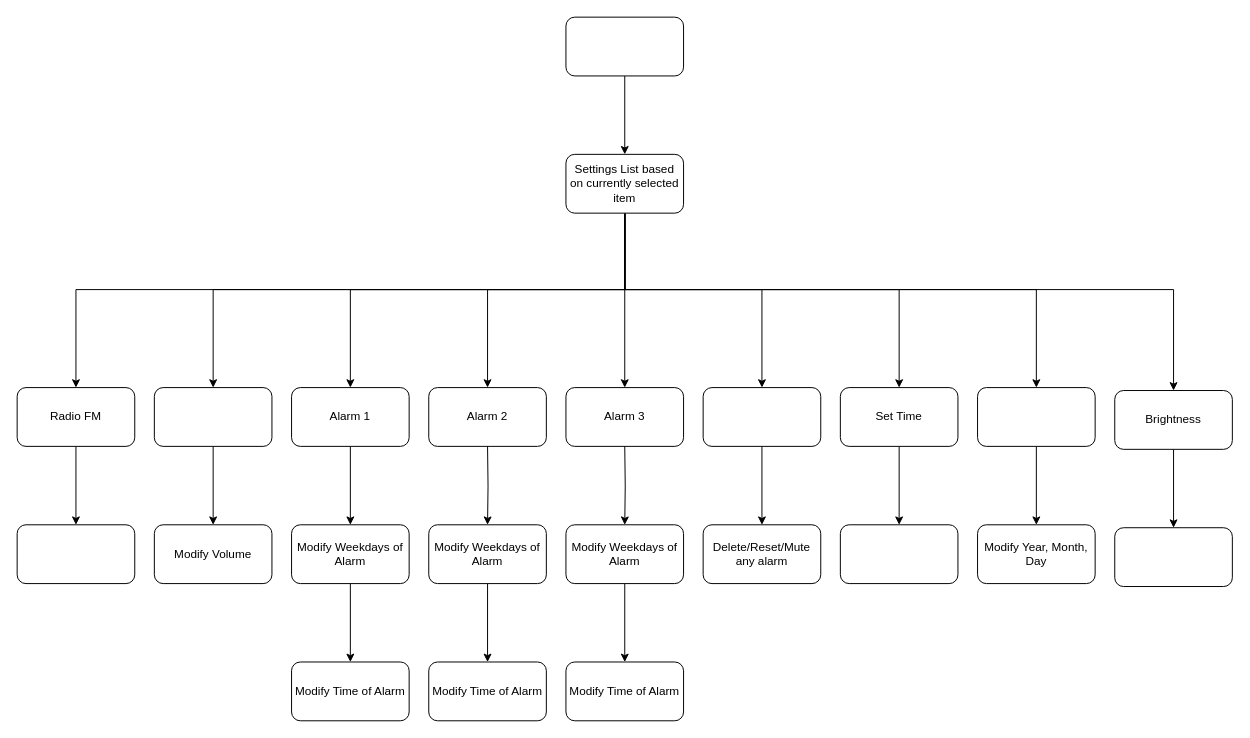
The diagram is 1250 pixels wide and 738 high, and some of its shapes have lost their labels. The box of each missing label's shape, as (x1, y1, x2, y2) in pixels:
Default Clock: (565, 16, 684, 76)
Delete Alarms: (702, 387, 821, 446)
Modify Contrast: (1114, 527, 1232, 587)
Modify Frequency or Active FM Radio Module: (16, 524, 135, 584)
Modify Hour, Minute, Time Format: (839, 524, 958, 584)
Set Date: (977, 387, 1095, 446)
Volume: (153, 387, 272, 446)
